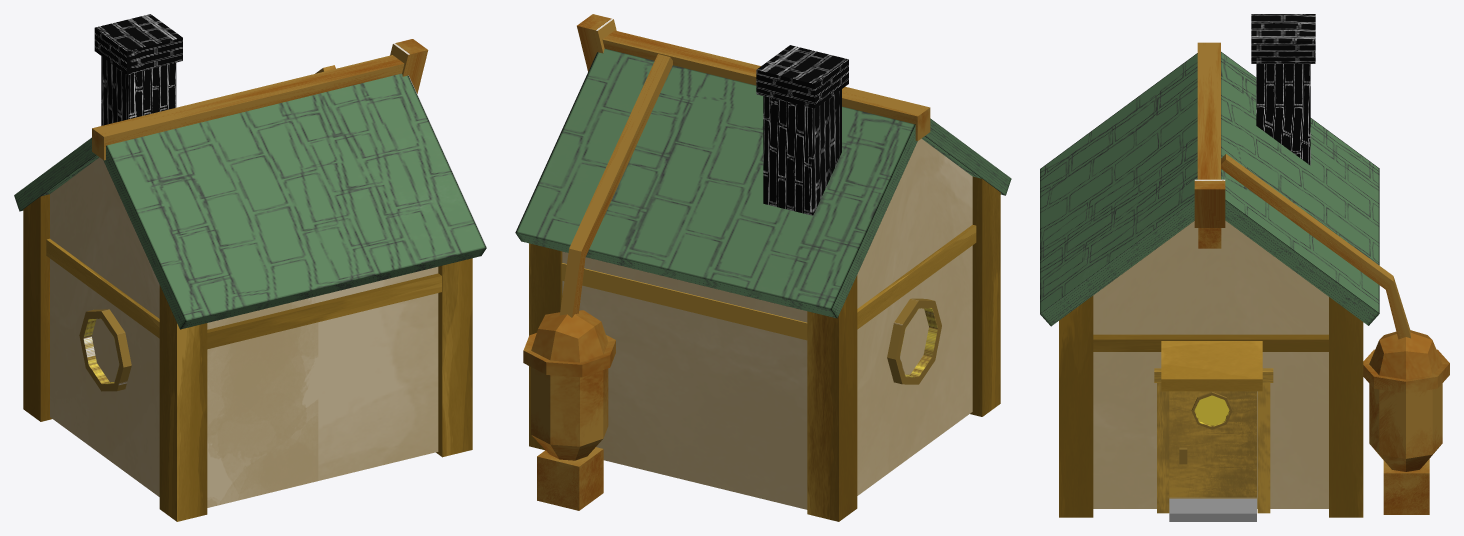
Rendered from steamHouse.obj.
The picture shows the model from 3 angles, left to right: view 1: azimuth 30°, elevation 25°; view 2: azimuth 150°, elevation 25°; view 3: azimuth 270°, elevation 25°; orthographic projection. The views are drawn at different scales.
Visible parts, largest first — view 1: parts, house; view 2: parts, house; view 3: parts, house.
Part boxes in pixels (x1,y1,x2,y2): parts: (14,14,486,521); house: (50,157,438,507); parts: (515,14,1011,521); house: (562,138,972,509); parts: (1040,14,1449,521); house: (1093,220,1328,508).
Size of the model in its own units: 8.78 by 10.11 by 9.37.
Materials: 4 (4 with a texture image).
